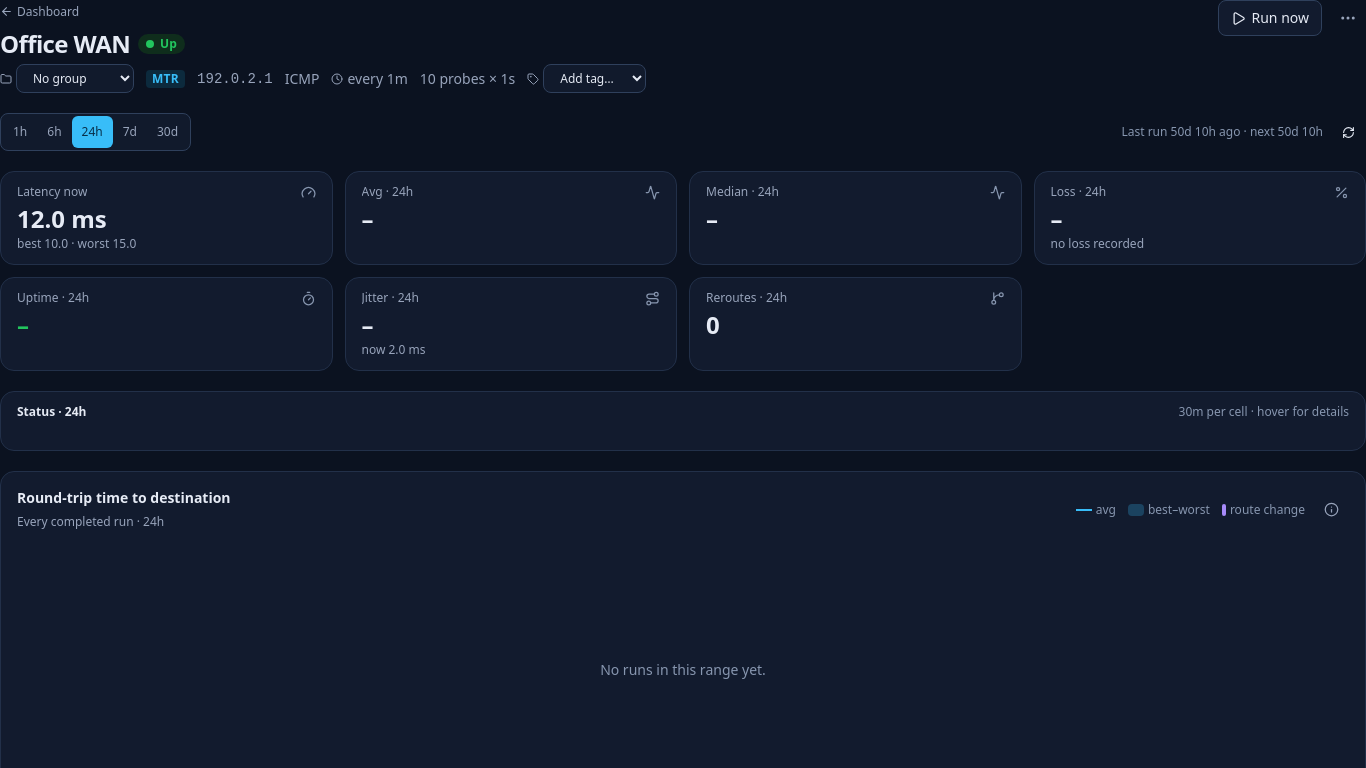
Test: clearing history › asks which runs to clear, names the count and deletes only after confirmation
Click the button named "Actions for Office WAN" at (1348, 18), box [1330, 0, 1365, 36]
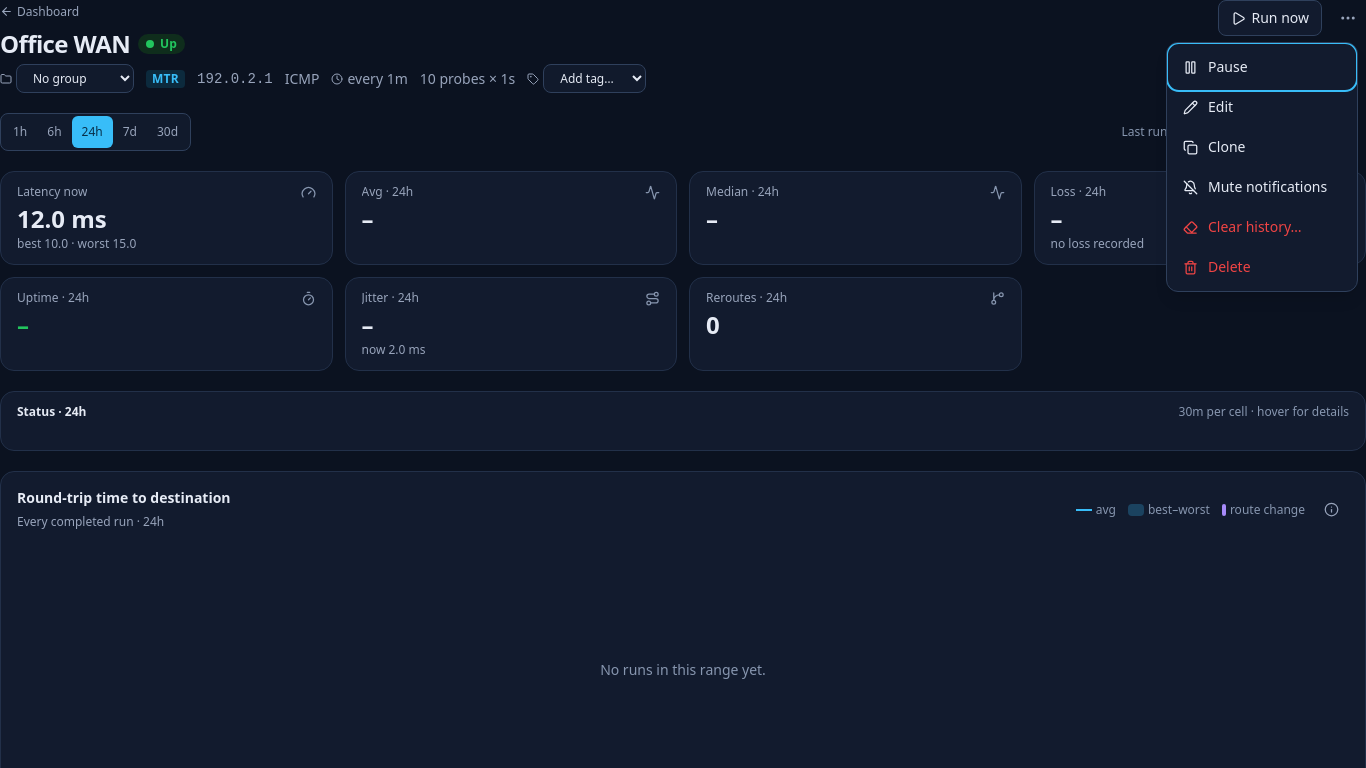
Click the menu item "Clear history…" at (1262, 227), box [1171, 207, 1353, 247]
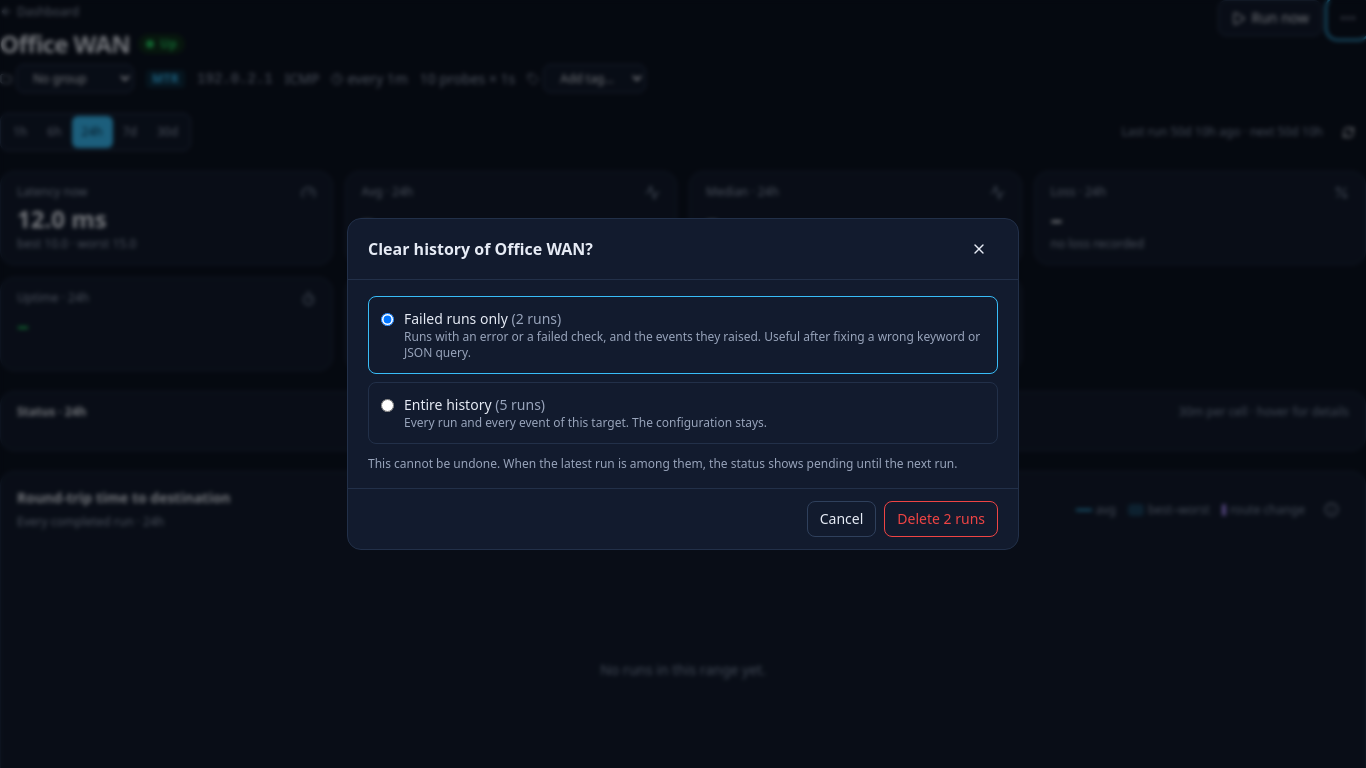
Check: the dialog shows "Clear history of Office WAN?", box [368, 238, 593, 260]
Check: the radio button labelled "Failed runs only" is checked, box [381, 313, 394, 326]
Check: the button "Delete 2 runs" is shown, box [884, 501, 998, 537]
Click the radio button labelled "Entire history" at (388, 406), box [381, 399, 394, 412]
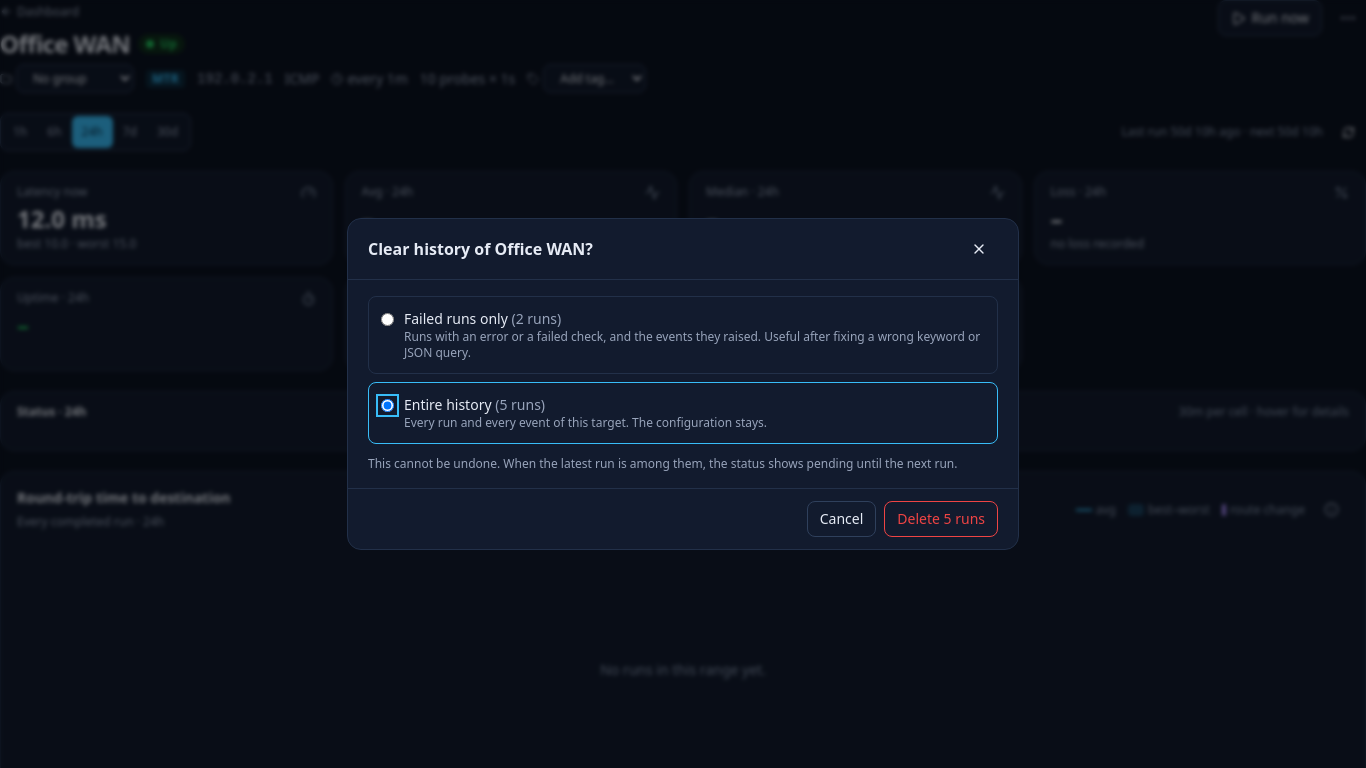
Click the button "Delete 5 runs" at (941, 519), box [884, 501, 998, 537]
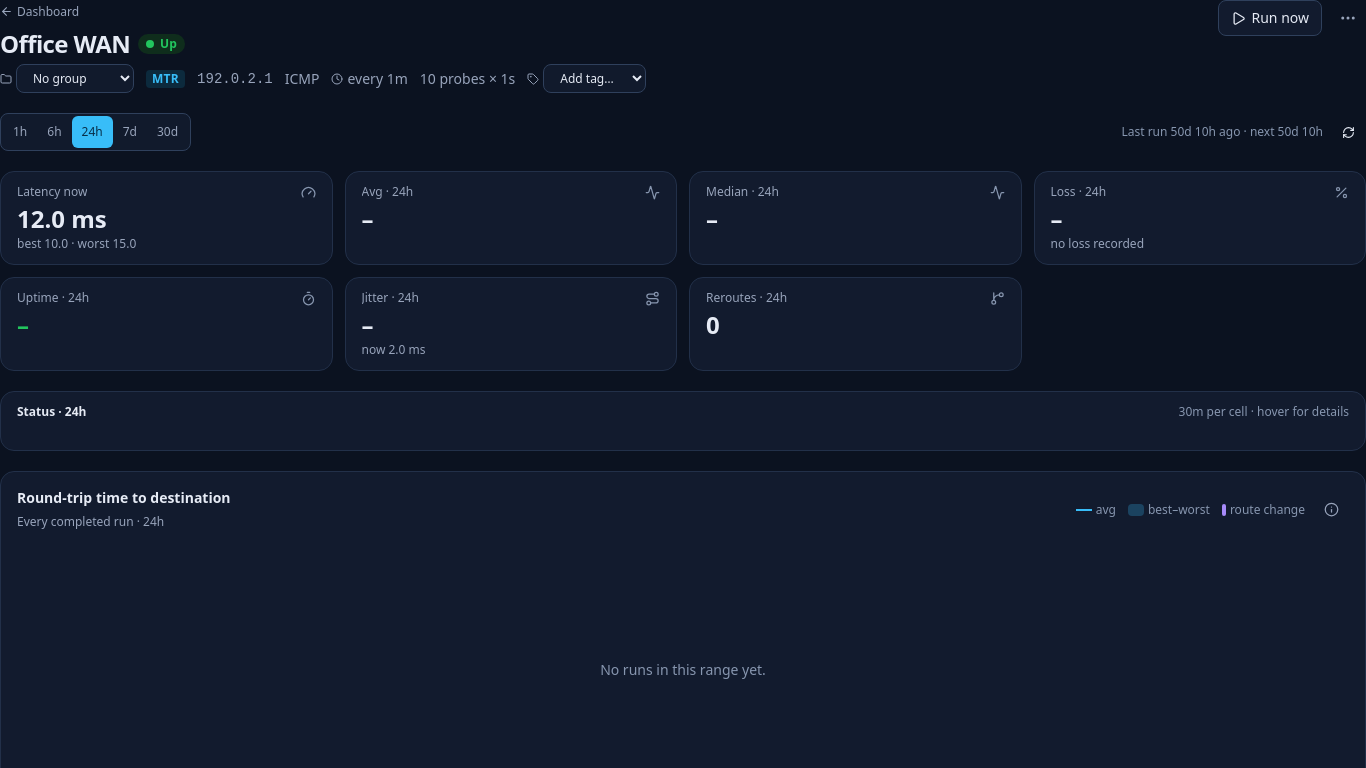
Check: the dialog is gone
